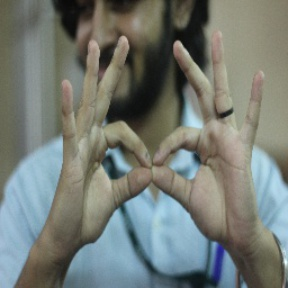B: (91, 112, 213, 207)
